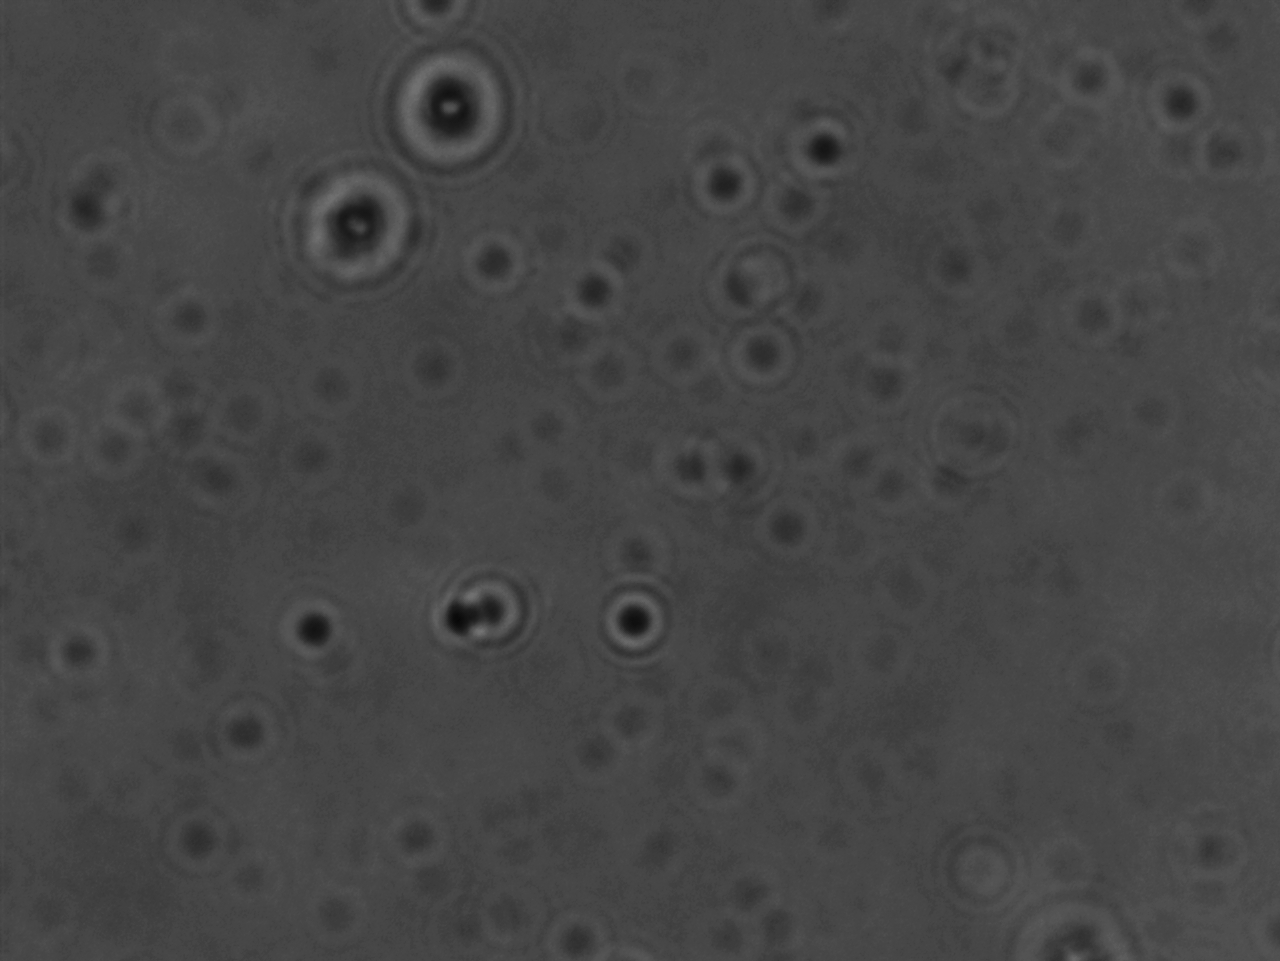depth:-24: (283, 131, 431, 312), (376, 50, 526, 176)
